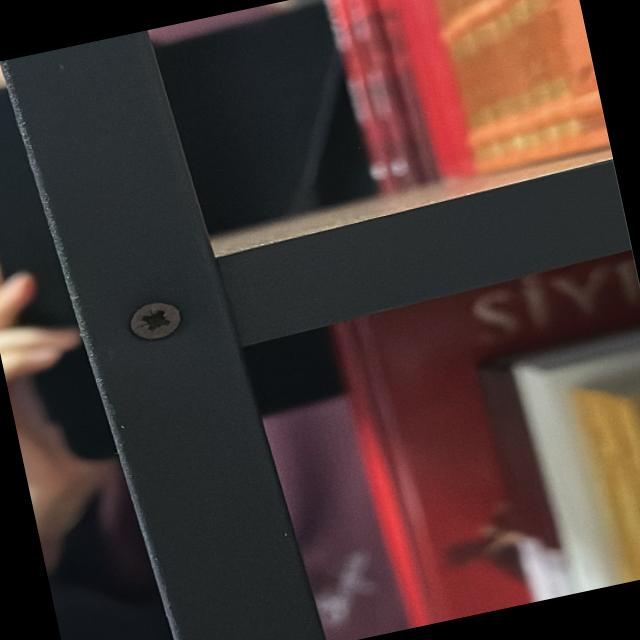Pozidriv: (118, 297, 188, 354)
